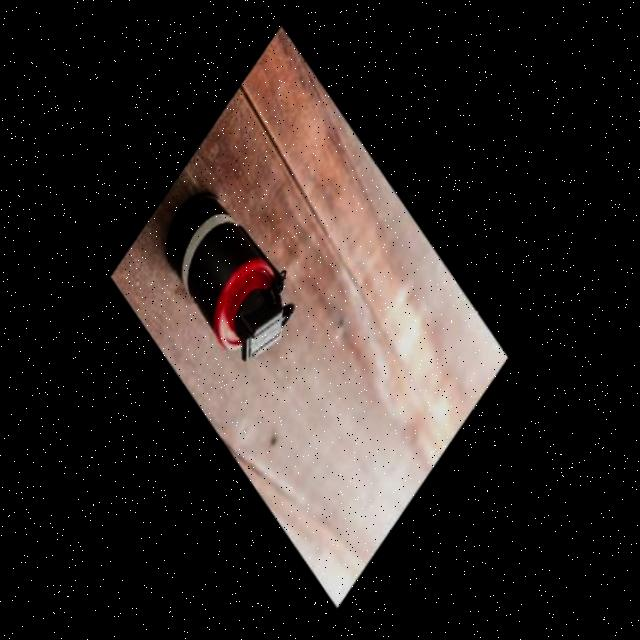grenade: (150, 186, 301, 381)
